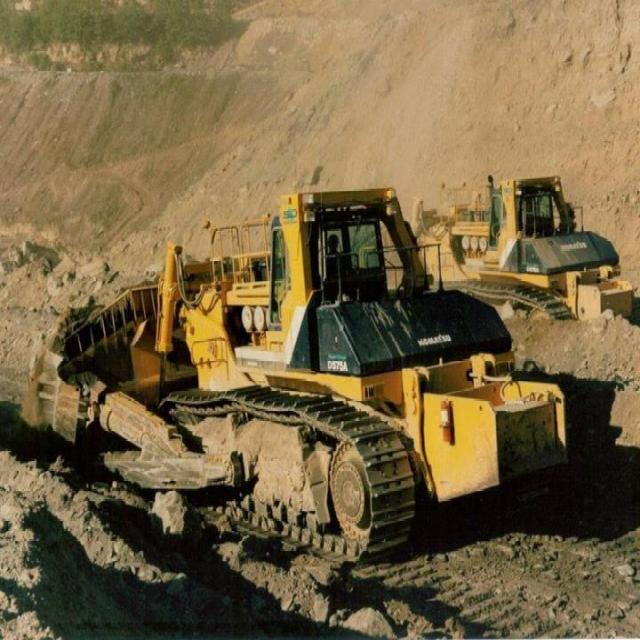Bulldozer: (30, 169, 606, 597)
